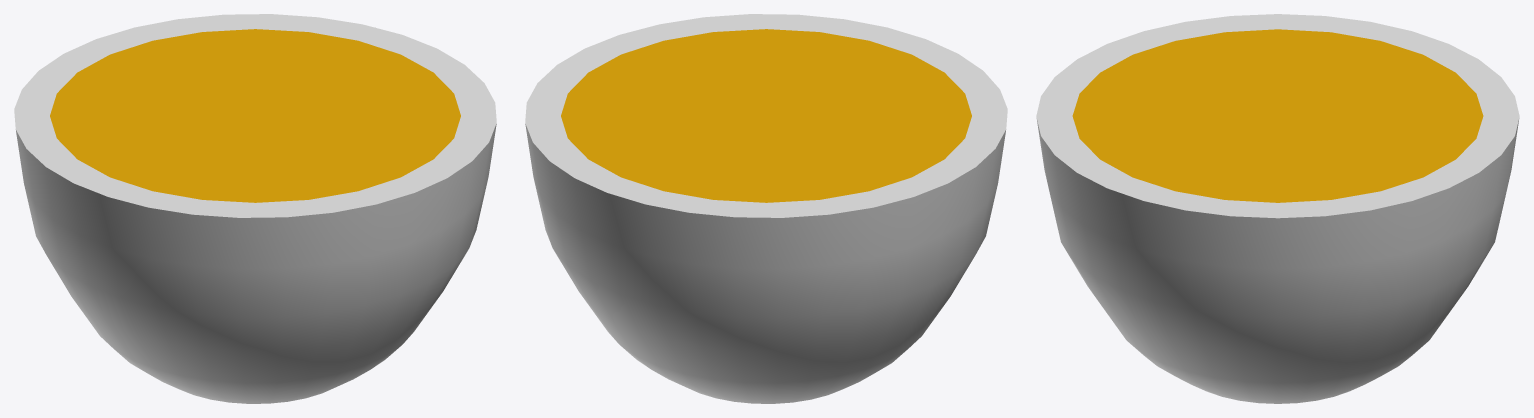
The model's file is EggBottom.fbx.
3 views of the same model, side by side, from view 1: azimuth 30°, elevation 25°; view 2: azimuth 150°, elevation 25°; view 3: azimuth 270°, elevation 25° (orthographic).
Visible parts, largest first — view 1: EggBottom; view 2: EggBottom; view 3: EggBottom.
Boxes of the visible parts, bbox=[...] form: EggBottom: bbox=[14, 14, 496, 403]; EggBottom: bbox=[525, 14, 1007, 403]; EggBottom: bbox=[1036, 14, 1519, 403].
Size of the model in its own units: 6.61 by 4.1 by 6.61.
